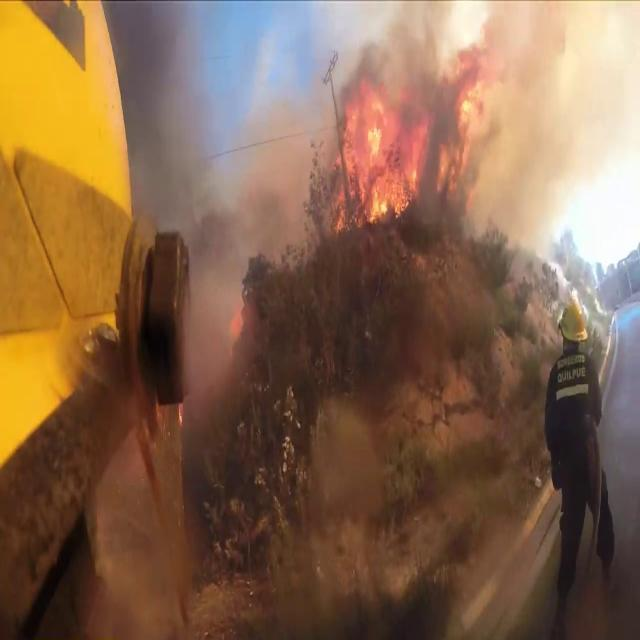Fire: (332, 72, 419, 226)
Smoke: (332, 1, 640, 266), (114, 2, 322, 384)
